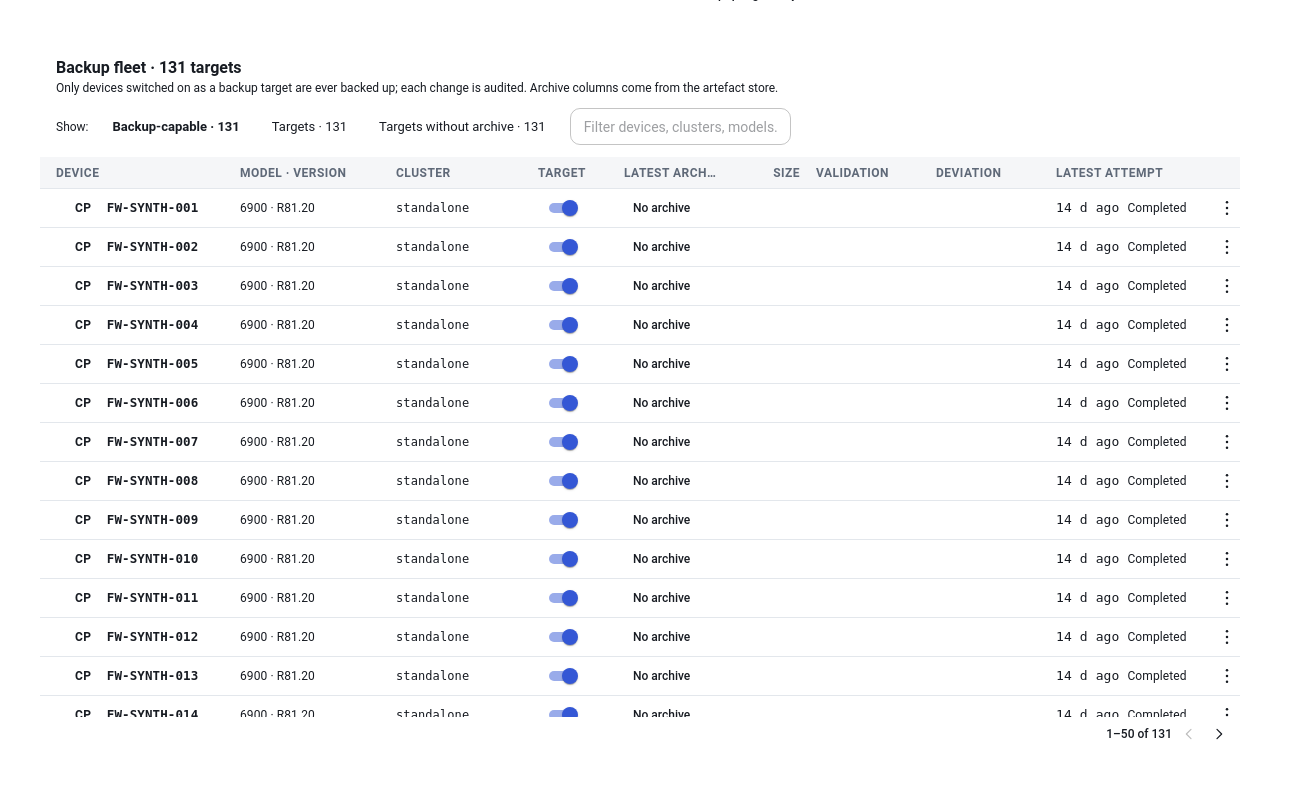
Test: pagination at 50 › shows 1–50 of 131 and moves page by page without losing a row
(page scrolled)
Check: the text "FW-SYNTH-001" is shown, box [107,198,198,218]
Check: the text "1–50 of 131" is shown, box [1106,726,1172,742]
Click the button named "Go to next page": {"x": 1219, "y": 734} [1206,721,1232,747]
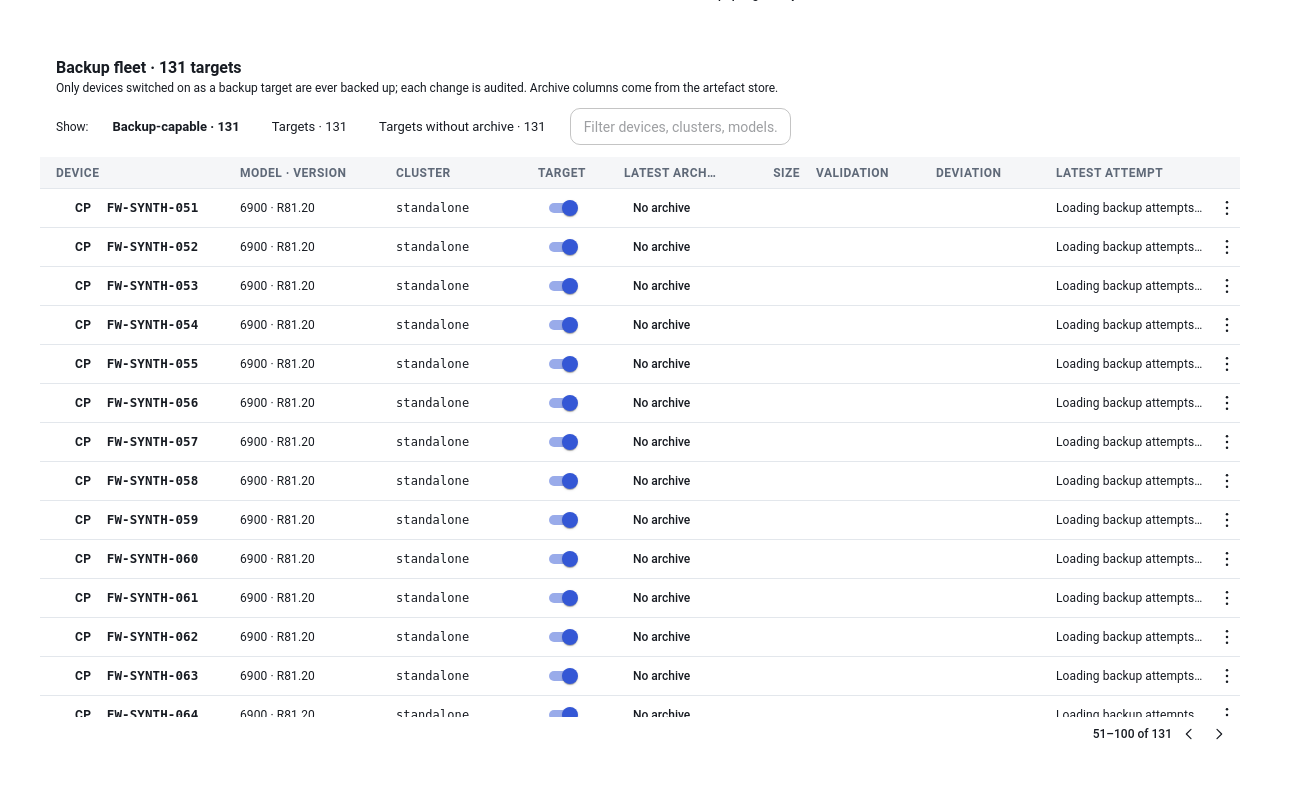
Check: the text "51–100 of 131" is shown, box [1093,726,1172,742]
Check: the text "FW-SYNTH-051" is shown, box [107,198,198,218]
Click the button named "Go to next page": {"x": 1219, "y": 734} [1206,721,1232,747]
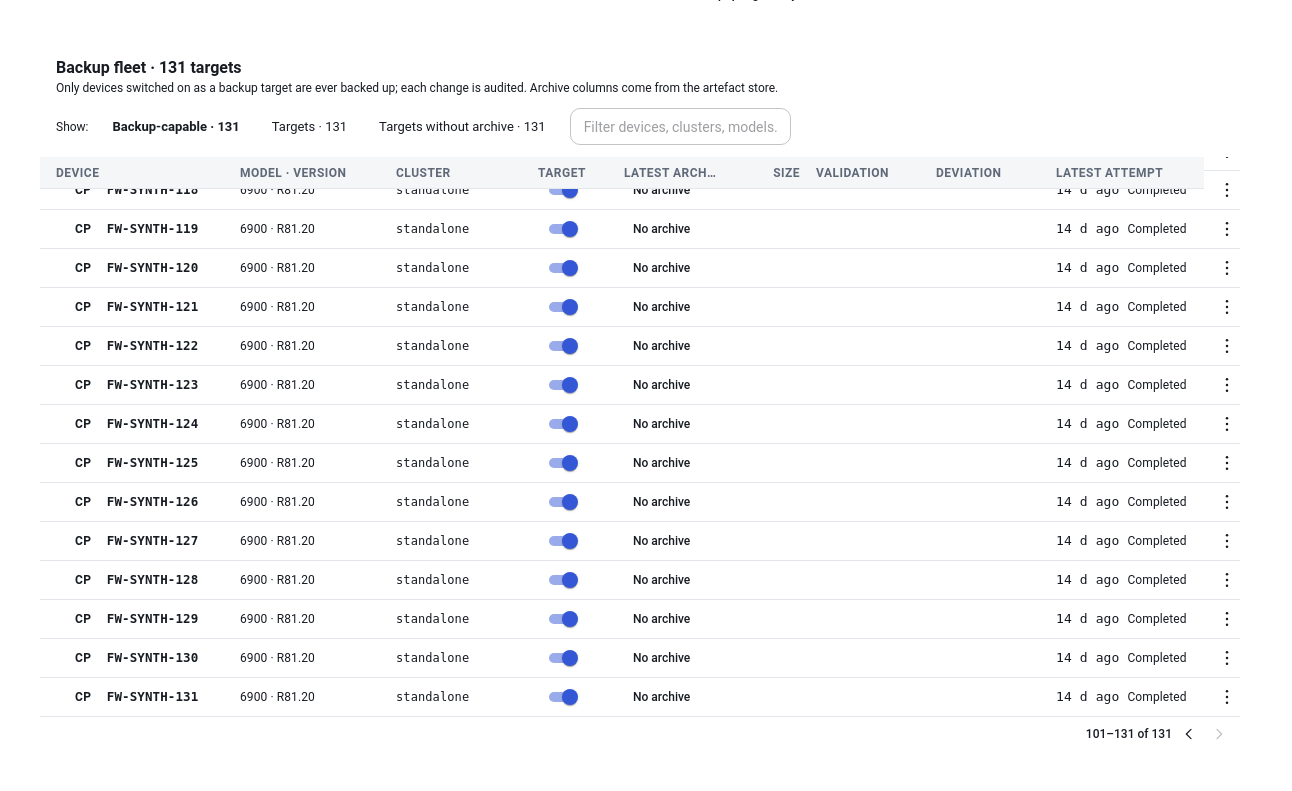
Check: the text "101–131 of 131" is shown, box [1086,726,1172,742]
Check: the text "FW-SYNTH-131" is shown, box [107,687,198,707]
